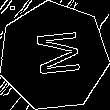M_W: (26, 31, 81, 82)
